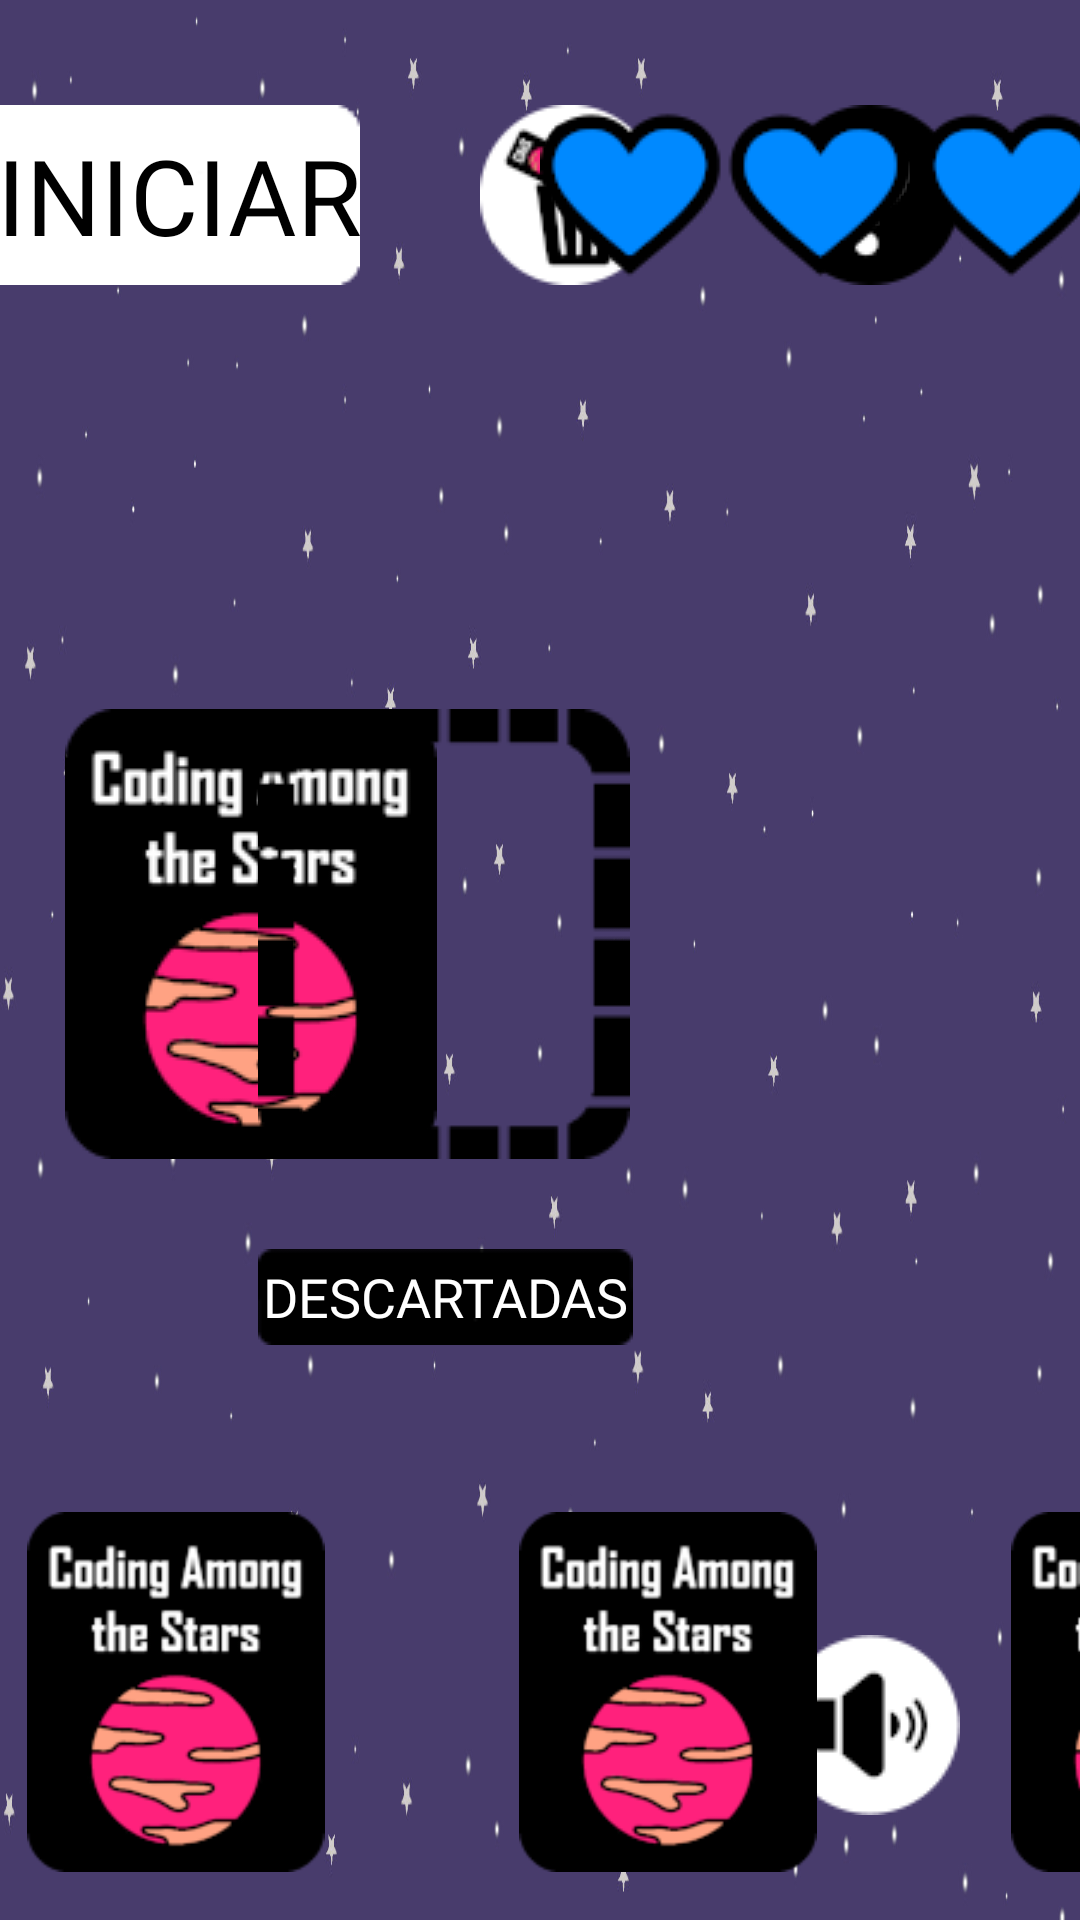

Screen size 1080px x 1920px. Icon name, then its center in pixels as (x,y):
sound on: (870,1725)
